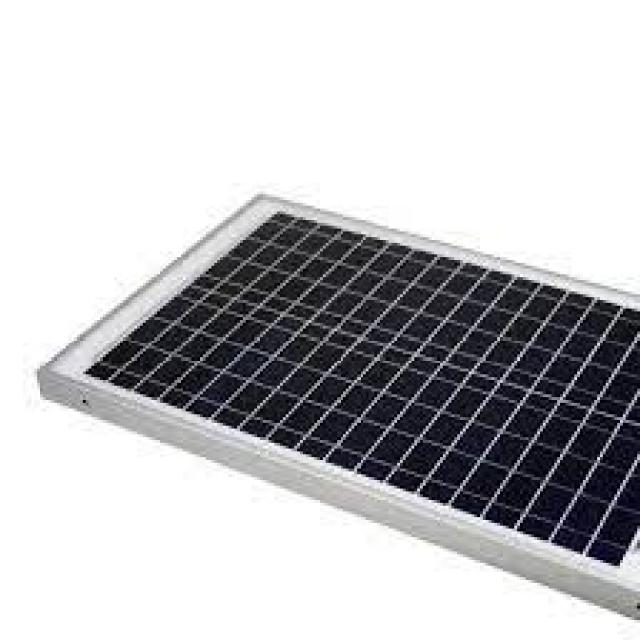no faulty: (56, 213, 640, 587)
